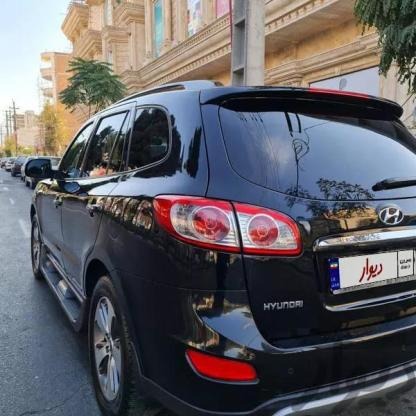Car: (16, 54, 416, 416)
